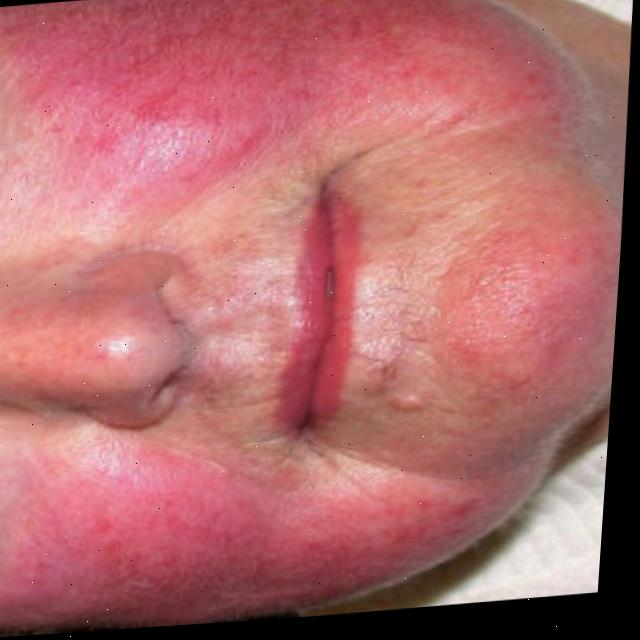Rosacea: (0, 434, 485, 621), (56, 0, 499, 188), (445, 233, 598, 403)
